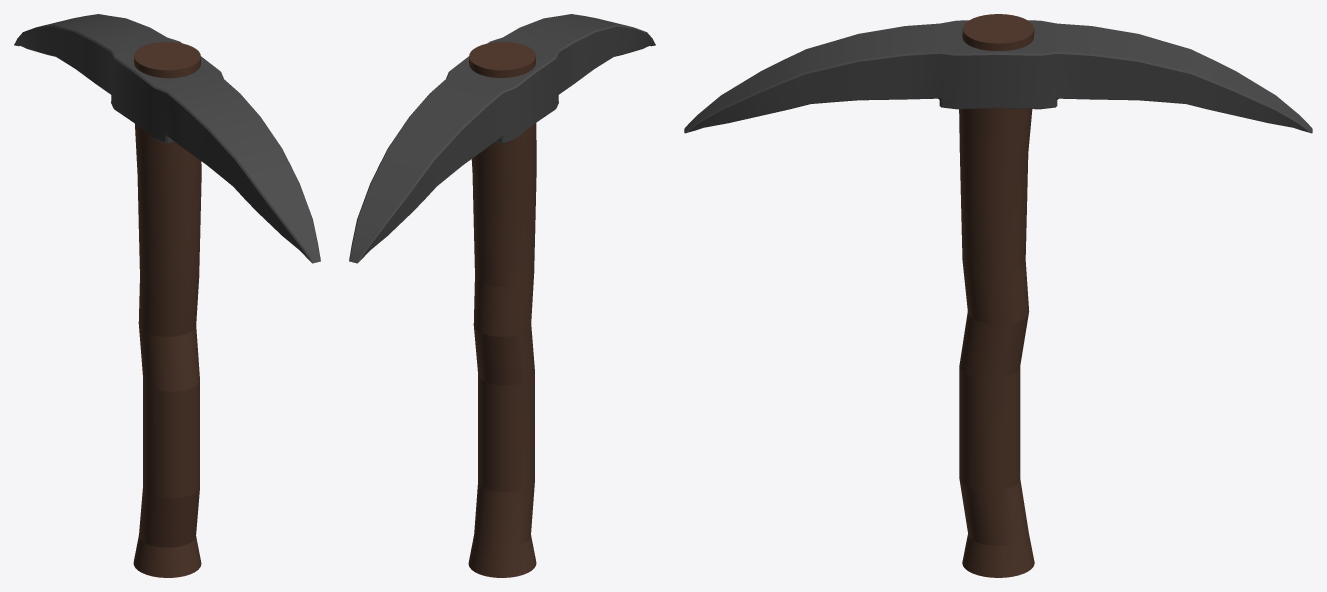
The model's file is Pickaxe .fbx.
3 views of the same model, side by side, from view 1: azimuth 30°, elevation 25°; view 2: azimuth 150°, elevation 25°; view 3: azimuth 270°, elevation 25° (orthographic). The views are drawn at different scales.
Parts seen in each view (by area): view 1: Cylinder, Cube; view 2: Cylinder, Cube; view 3: Cube, Cylinder.
Part boxes in pixels (x1,y1,x2,y2): Cylinder: (133, 42, 201, 577); Cube: (14, 14, 320, 263); Cylinder: (468, 42, 536, 577); Cube: (349, 14, 655, 263); Cube: (684, 20, 1312, 133); Cylinder: (959, 14, 1034, 577).
Size of the model in its own units: 87.44 by 630 by 672.
